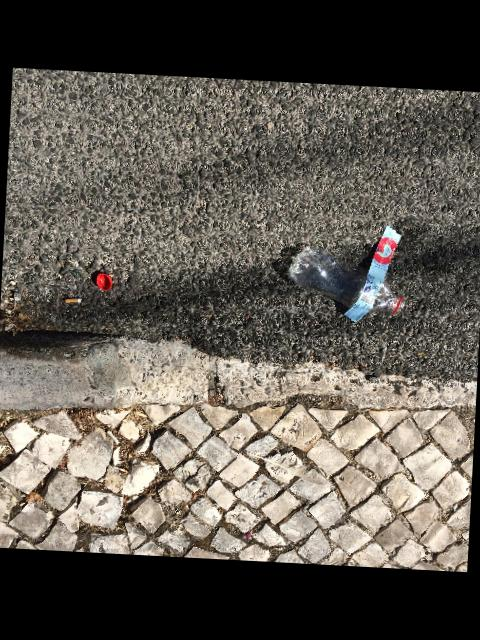plastic: (287, 246, 405, 314)
